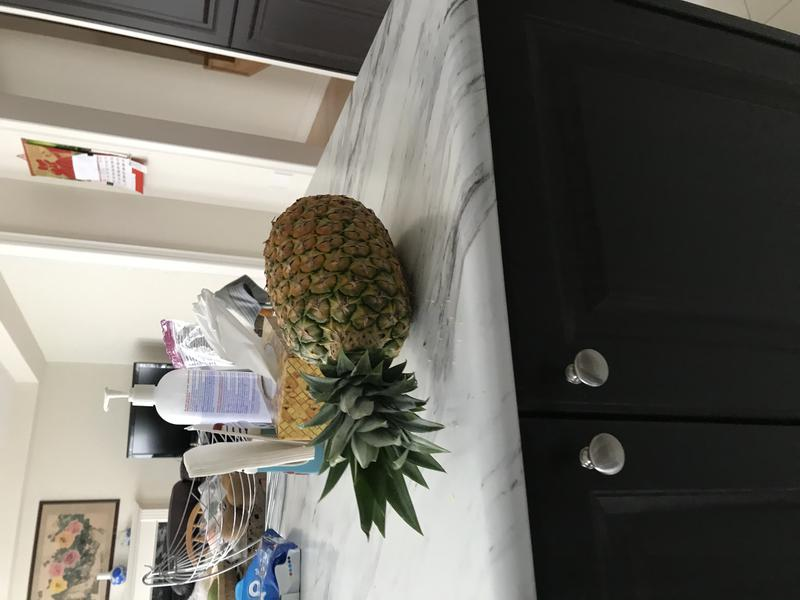pineapple: (259, 190, 449, 545)
